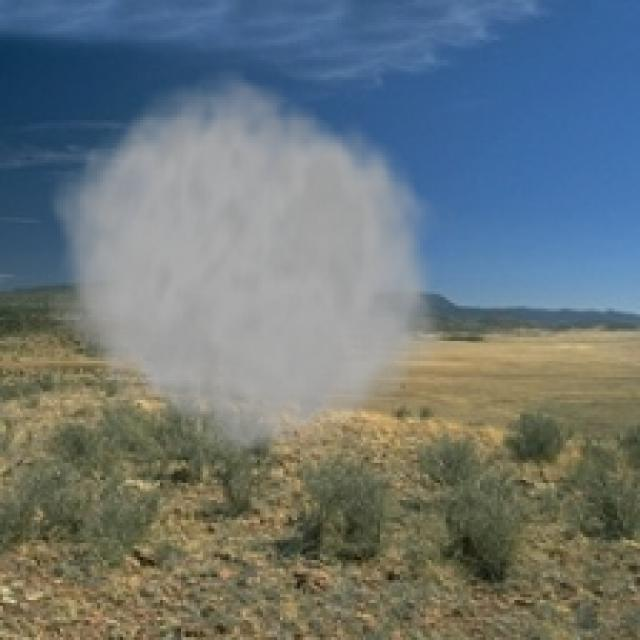Smoke: (49, 60, 458, 469)
